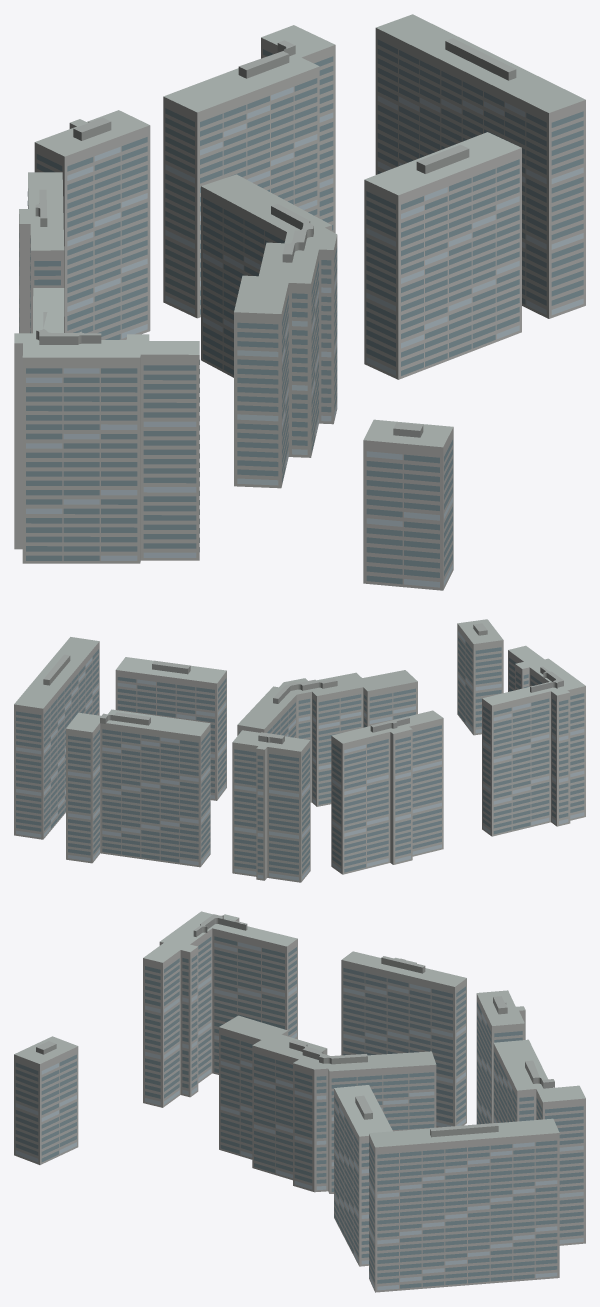
File: apt-a13989701.glb
3 views of the same model, one above another, from view 1: azimuth 30°, elevation 25°; view 2: azimuth 150°, elevation 25°; view 3: azimuth 270°, elevation 25° (orthographic). The views are drawn at different scales.
Visible parts, largest first — view 1: apt-a13989701; view 2: apt-a13989701; view 3: apt-a13989701.
Boxes of the visible parts, x1,y1,x2,y2 form: apt-a13989701: [14, 14, 585, 590]; apt-a13989701: [14, 619, 585, 882]; apt-a13989701: [14, 911, 585, 1292].
Bounding box in the file's own units: 201 × 60 × 206.
